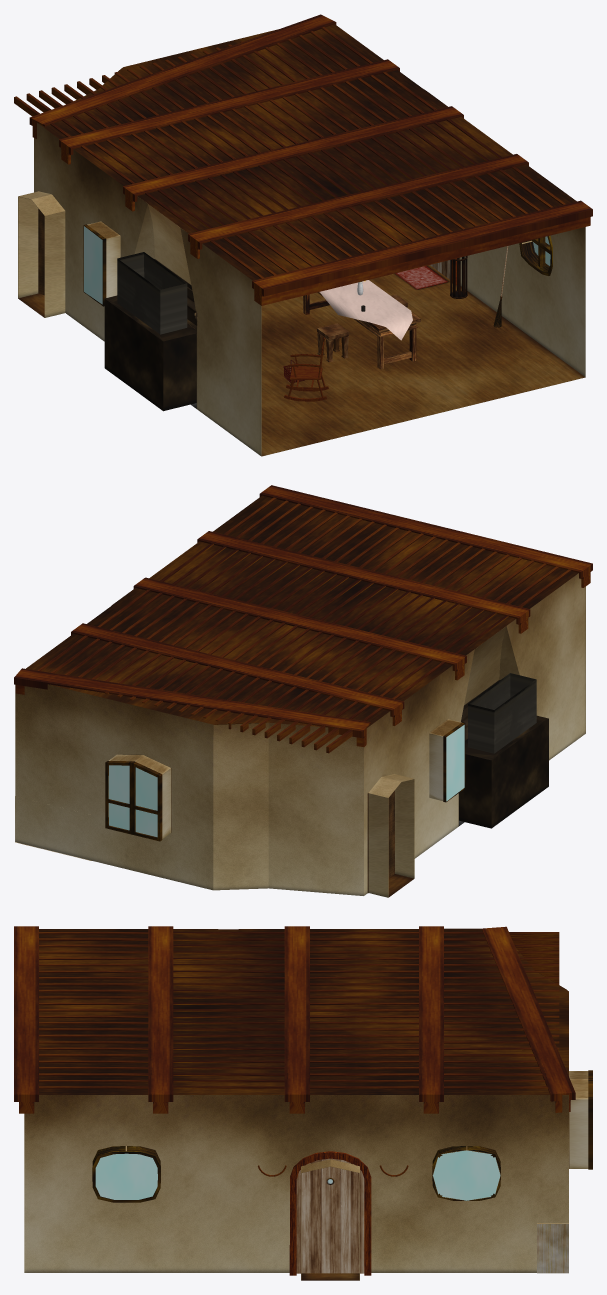
File: 353_bg_oriviaB.fbx
The picture shows the model from 3 angles, top to bottom: view 1: azimuth 30°, elevation 25°; view 2: azimuth 150°, elevation 25°; view 3: azimuth 270°, elevation 25°; orthographic projection. The views are drawn at different scales.
Parts seen in each view (by area): view 1: polySurface12, pCube115, pCube112, pCube113, pCube111, pCube114, pPlane10, polySurface13, pCube160, pCube116, pCube87, pCube88 (+26 smaller); view 2: polySurface12, pCube114, pCube111, pCube112, pCube115, pCube113, polySurface16, pPlane8, polySurface13, pCube116, pCube87, pCube88 (+23 smaller); view 3: polySurface12, Door3, pCube111, pCube112, pCube114, pCube115, pCube113, polySurface14, polySurface15, Door5, pCube88, pCube95 (+27 smaller).
Boxes of the visible parts, x1,y1,x2,y2 form: polySurface12: (18, 24, 585, 456); pCube115: (252, 200, 592, 305); pCube112: (123, 106, 463, 211); pCube113: (59, 59, 399, 164); pCube111: (188, 154, 528, 258); pCube114: (29, 14, 336, 138); pPlane10: (320, 280, 412, 340); polySurface13: (84, 226, 102, 304); pCube160: (303, 292, 417, 369); pCube116: (14, 96, 264, 278); pCube87: (26, 93, 276, 275); pCube88: (39, 90, 288, 272); polySurface12: (15, 495, 585, 897); pCube114: (14, 668, 370, 746); pCube111: (197, 531, 530, 633); pCube112: (133, 577, 466, 680); pCube115: (259, 485, 592, 587); pCube113: (71, 623, 404, 725); polySurface16: (108, 765, 157, 837); pPlane8: (105, 761, 162, 841); polySurface13: (446, 725, 464, 801); pCube116: (326, 569, 571, 753); pCube87: (314, 566, 558, 750); pCube88: (301, 563, 546, 747); polySurface12: (24, 928, 588, 1280); Door3: (296, 1158, 364, 1273); pCube111: (148, 926, 173, 1113); pCube112: (284, 926, 309, 1113); pCube114: (482, 926, 575, 1112); pCube115: (14, 926, 38, 1113); pCube113: (419, 926, 443, 1113); polySurface14: (433, 1150, 500, 1200); polySurface15: (95, 1153, 157, 1199); Door5: (289, 1151, 371, 1275); pCube88: (39, 944, 559, 951); pCube95: (39, 989, 559, 992).
Bounding box in the file's own units: 1764 × 793 × 2282.
